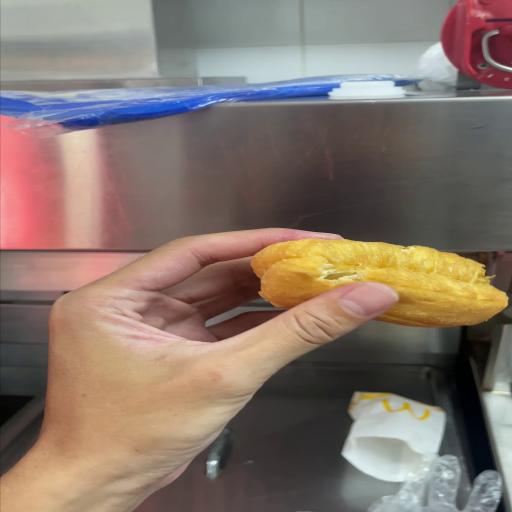brand_golden_defect: (251, 239, 507, 327)
